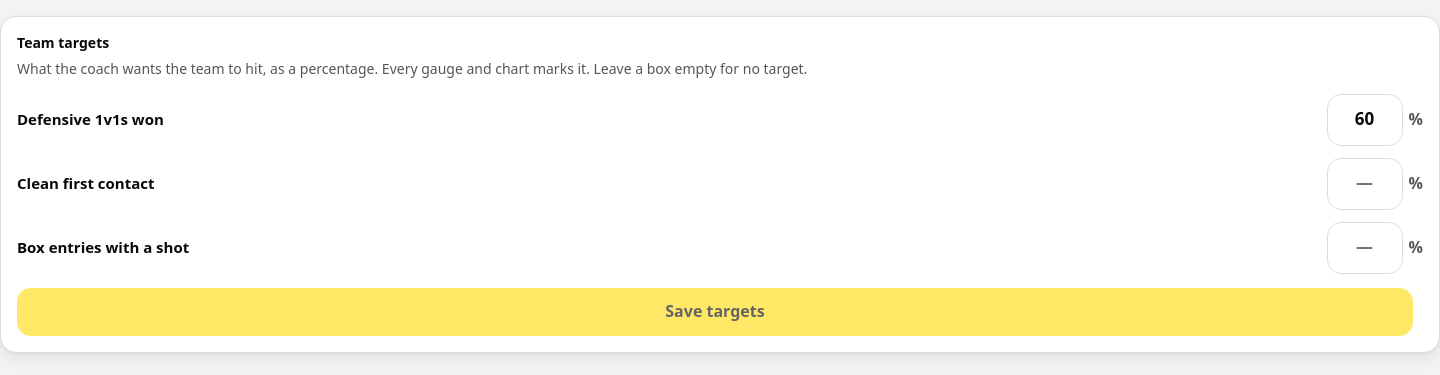
Test: TeamTargets › shows the saved targets and saves changes for the whole team
Expected: the button "Save targets" is disabled, [17, 288, 1413, 336]
Clear the field labelled "Defensive 1v1s won" at (1365, 120), box [1327, 94, 1403, 146]
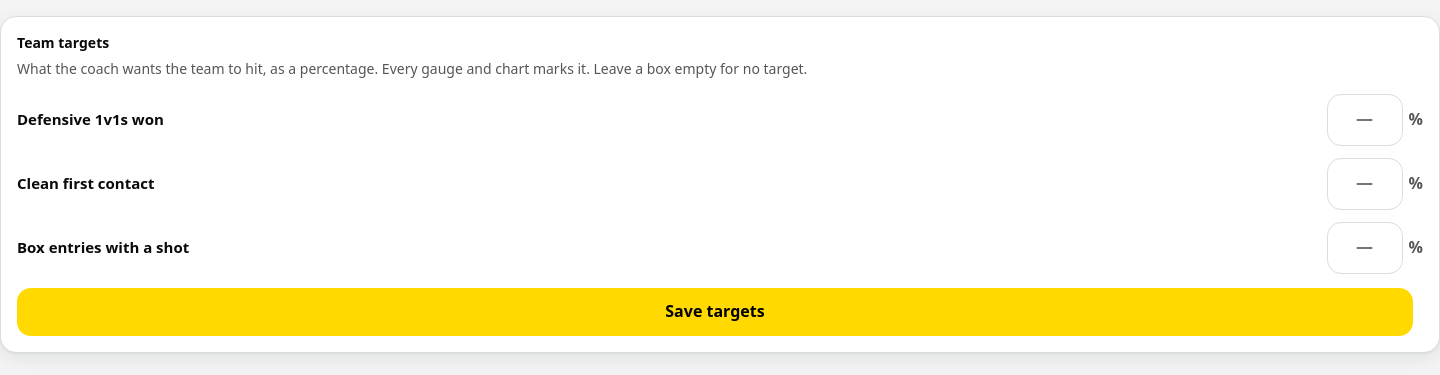
Type "45" into the field labelled "Box entries with a shot" at (1365, 248), box [1327, 222, 1403, 274]
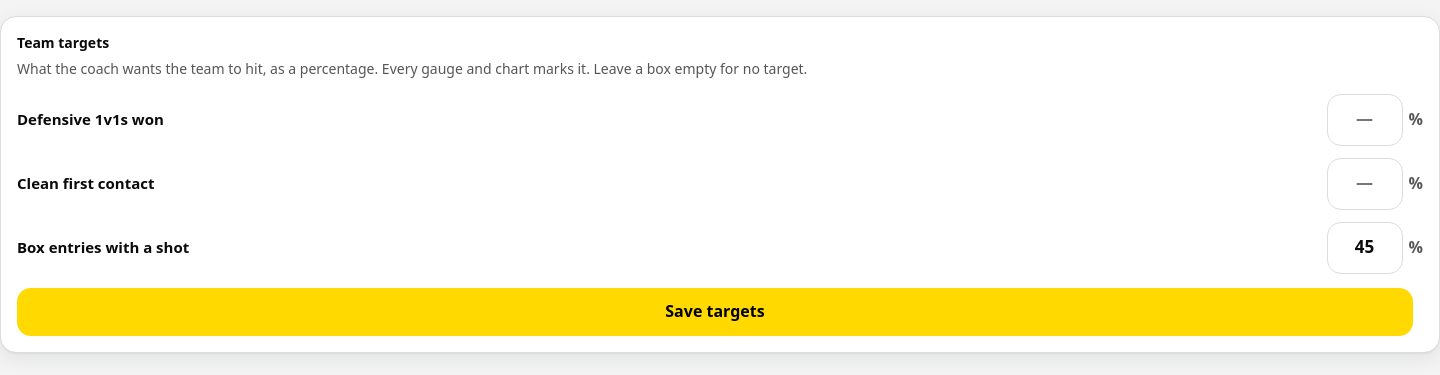
Click the button "Save targets" at (715, 312), box [17, 288, 1413, 336]
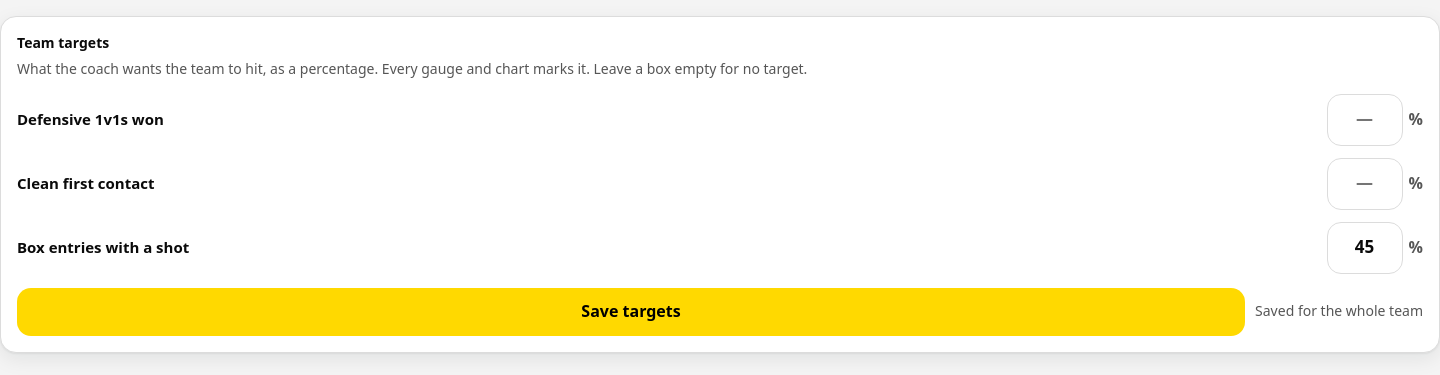
Now the text "Saved for the whole team" is shown, box [1255, 301, 1423, 322]
